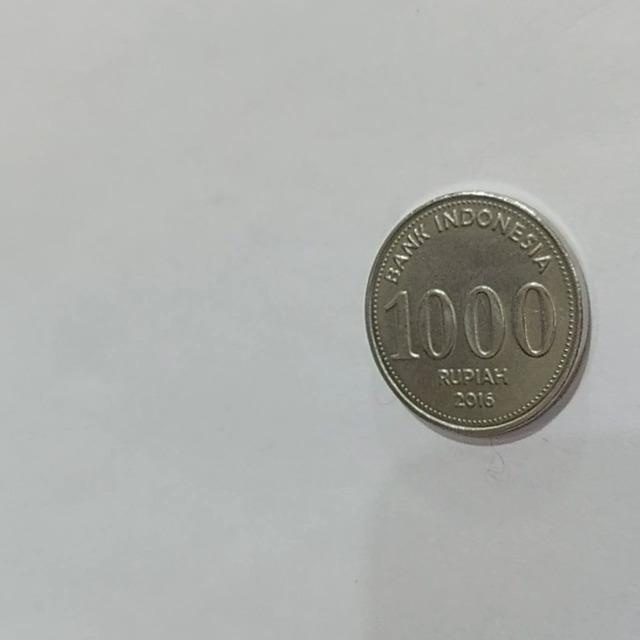Rp100: (362, 188, 591, 444)
